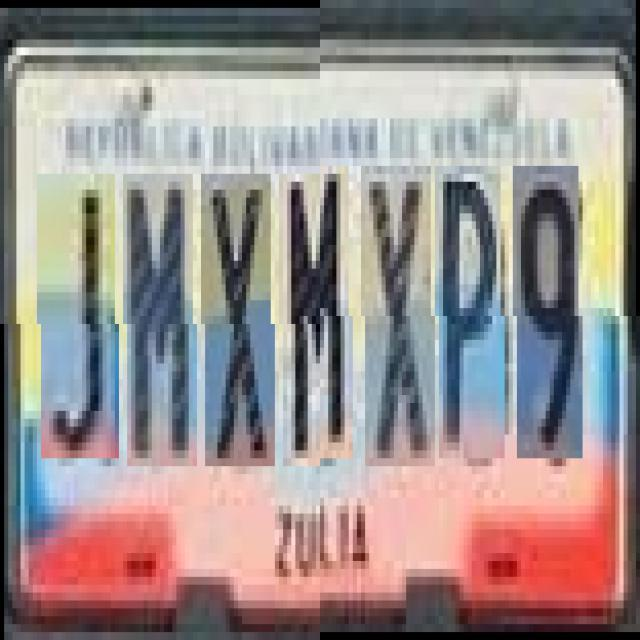9: (516, 174, 582, 466)
J: (41, 174, 119, 458)
M: (127, 174, 197, 466), (283, 174, 353, 466)
P: (440, 174, 504, 466)
X: (365, 174, 435, 474), (205, 174, 275, 466)
